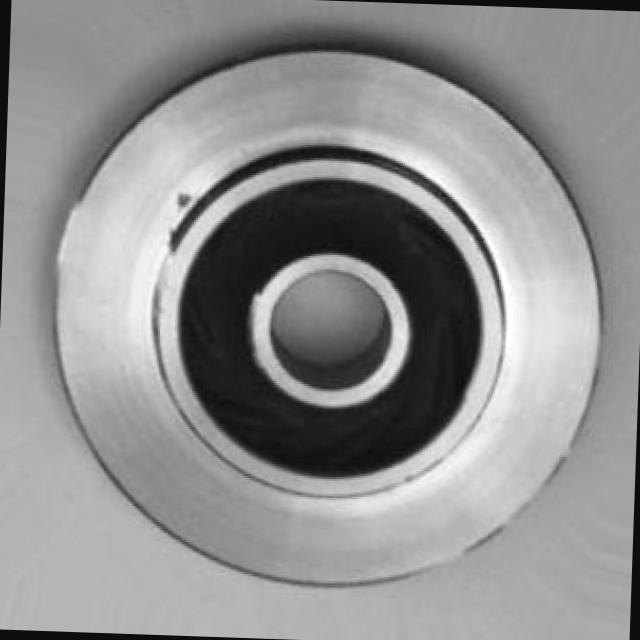Defect: (172, 185, 200, 212)
